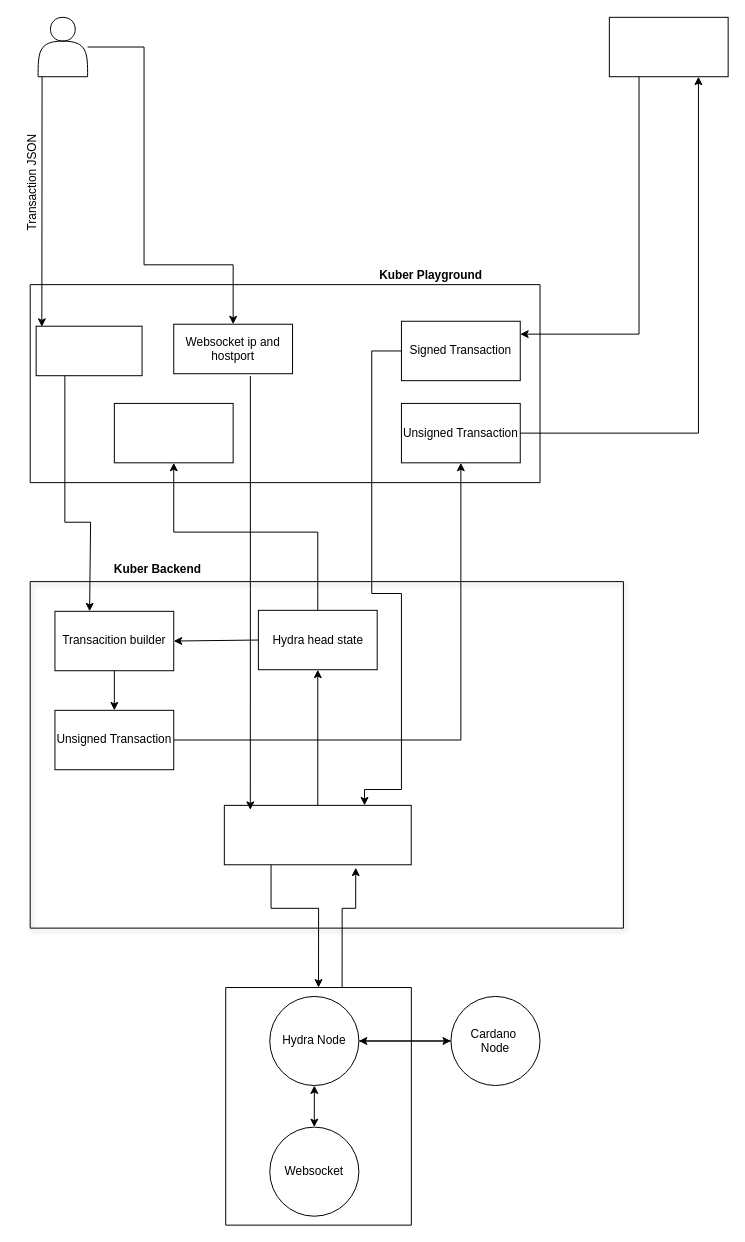
The diagram is 745 pixels wide and 1242 high, and some of its shapes have lost their labels. Each missing label, with the centre of its shape:
Hydra head info (logs, participants, utxos, snapshots): the point at 173,432
Tx Builder JSON formatter: the point at 88,350
Wallet / Signing key: the point at 668,46
Websocket Connecter: the point at 317,834
